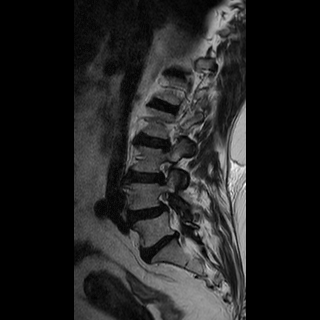RFS0: (152, 156, 177, 189)
